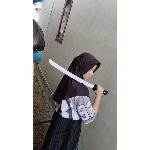Pedang: (47, 58, 113, 98)
